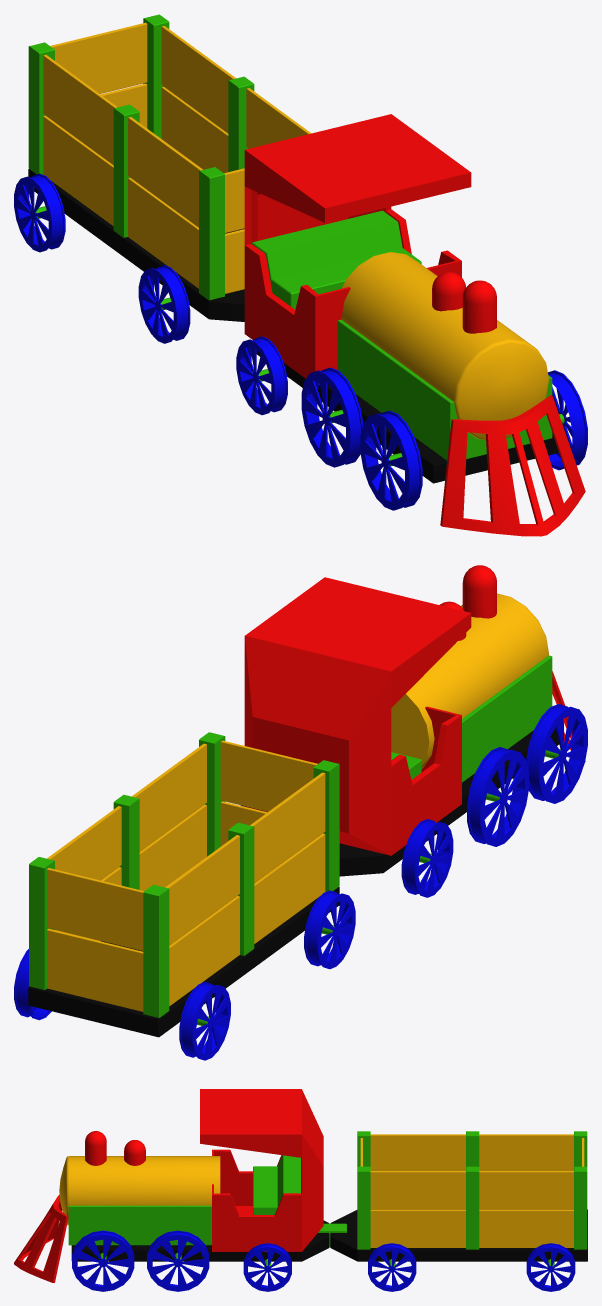
Rendered from Train.FBX.
The picture shows the model from 3 angles, top to bottom: view 1: azimuth 30°, elevation 25°; view 2: azimuth 150°, elevation 25°; view 3: azimuth 270°, elevation 25°; orthographic projection. The views are drawn at different scales.
Visible parts, largest first — view 1: Train; view 2: Train; view 3: Train.
Boxes of the visible parts, <box> form: Train: <box>14,14,587,536</box>; Train: <box>14,565,587,1060</box>; Train: <box>14,1089,587,1291</box>.
Bounding box in the file's own units: 43.42 × 55.53 × 190.
